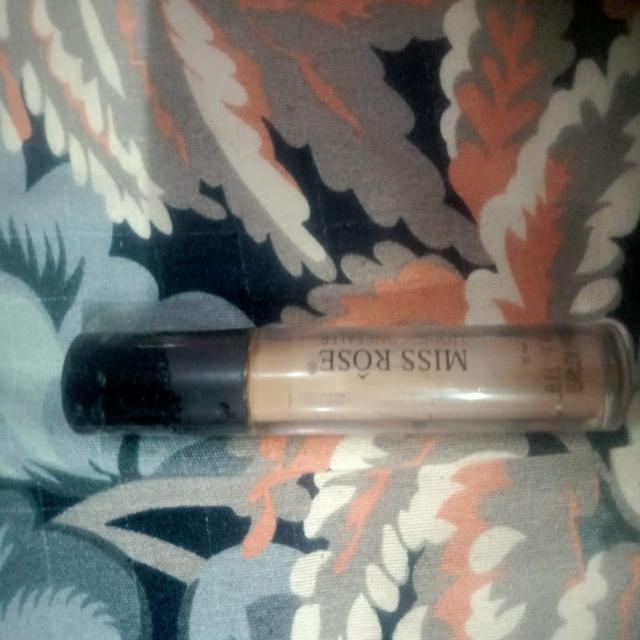foundation: (52, 300, 636, 460)
